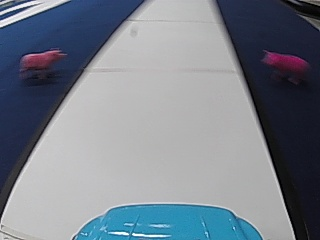pig: (261, 46, 309, 86), (18, 44, 64, 77)
